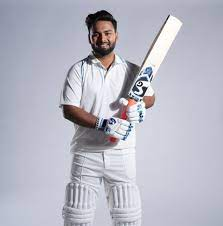bottom left: (167, 12, 175, 20)
bottom right: (178, 19, 188, 29)
top left: (124, 90, 133, 99)
top right: (137, 96, 146, 105)
